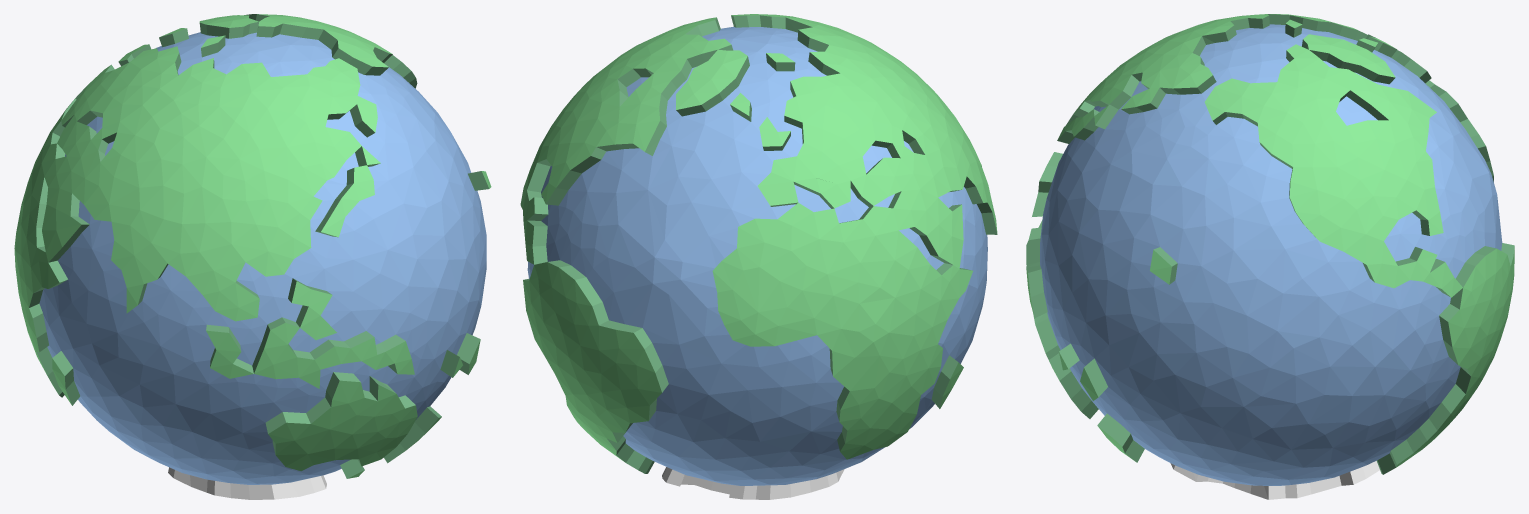
Rendered from LowPolyEarth.gltf.
The picture shows the model from 3 angles, left to right: view 1: azimuth 30°, elevation 25°; view 2: azimuth 150°, elevation 25°; view 3: azimuth 270°, elevation 25°; orthographic projection.
Parts seen in each view (by area): view 1: Sphere_Sphere.002-Material.009, Sphere_Sphere.002-Material.008, Sphere_Sphere.002-Material.010, Sphere_Sphere.002-Material.005; view 2: Sphere_Sphere.002-Material.008, Sphere_Sphere.002-Material.009, Sphere_Sphere.002-Material.010, Sphere_Sphere.002-Material.005; view 3: Sphere_Sphere.002-Material.009, Sphere_Sphere.002-Material.008, Sphere_Sphere.002-Material.010, Sphere_Sphere.002-Material.005.
Part boxes in pixels (x1,y1,x2,y2): Sphere_Sphere.002-Material.009: [39, 32, 486, 484]; Sphere_Sphere.002-Material.008: [14, 14, 491, 478]; Sphere_Sphere.002-Material.010: [29, 14, 488, 478]; Sphere_Sphere.002-Material.005: [168, 467, 326, 499]; Sphere_Sphere.002-Material.008: [520, 14, 997, 461]; Sphere_Sphere.002-Material.009: [527, 26, 987, 485]; Sphere_Sphere.002-Material.010: [523, 15, 997, 473]; Sphere_Sphere.002-Material.005: [662, 467, 844, 499]; Sphere_Sphere.002-Material.009: [1040, 24, 1502, 485]; Sphere_Sphere.002-Material.008: [1026, 14, 1514, 467]; Sphere_Sphere.002-Material.010: [1026, 14, 1514, 474]; Sphere_Sphere.002-Material.005: [1170, 461, 1379, 499].
Size of the model in its own units: 2.04 by 2.11 by 2.11.
